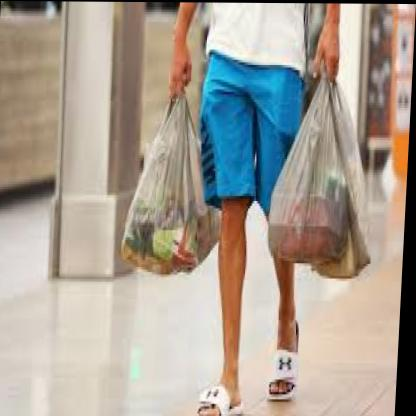Plastic: (76, 53, 230, 296), (258, 44, 394, 292)
